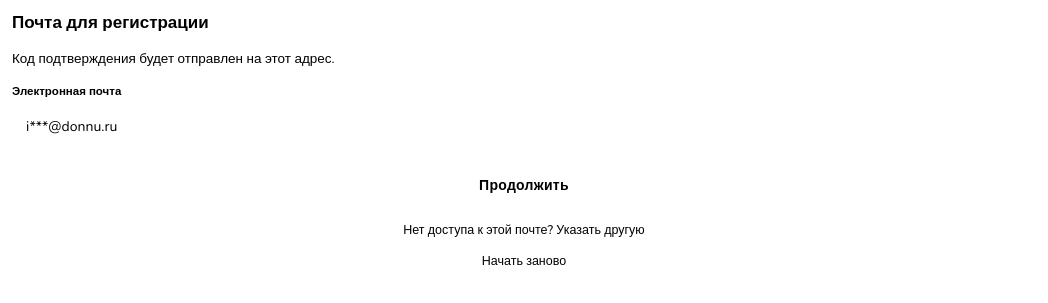
Test: VK ID (email выбирает пользователь) › VK вернул разрешённый email → адрес только для чтения, «Продолжить» шлёт init без email
Check: the field labelled "Электронная почта" holds "i***@donnu.ru", box [12,104,1036,148]
Click the button "Продолжить" at (524, 186), box [12,163,1036,208]
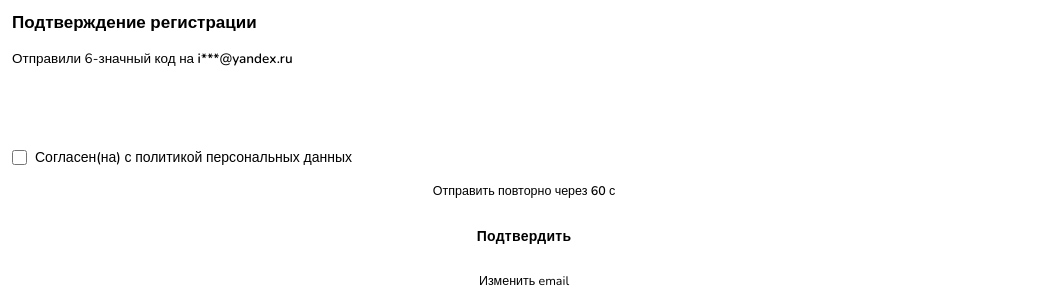
Check: the text "i***@yandex.ru" is shown, box [198,49,293,68]
